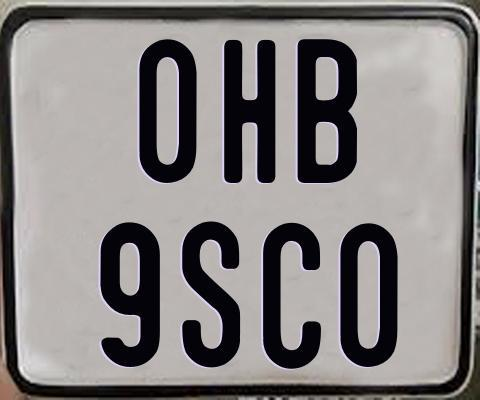0: (138, 36, 200, 183), (340, 223, 402, 370)
9: (99, 220, 162, 370)
B: (295, 37, 358, 186)
C: (260, 222, 319, 372)
H: (223, 40, 276, 187)
S: (180, 218, 240, 364)
